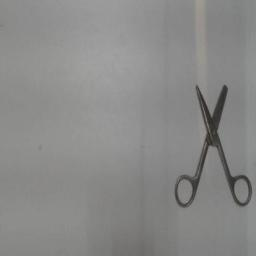Dressing Scissors: (171, 72, 255, 214)
